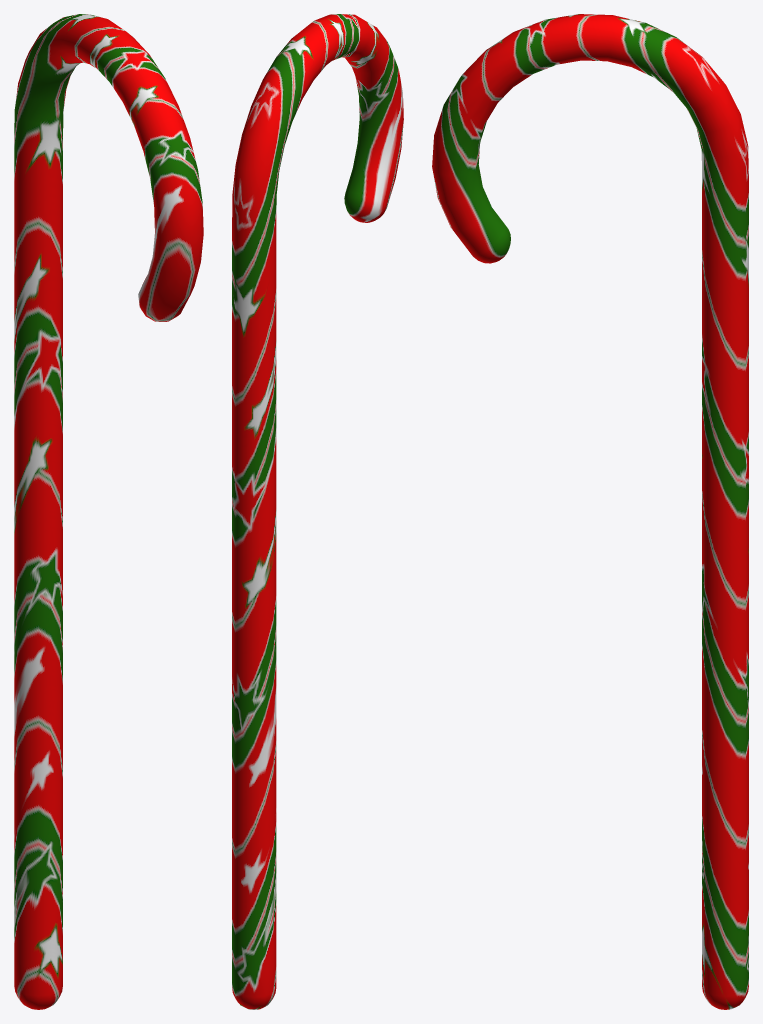
The model's file is Baston1.obj.
3 renders of one model, left to right at view 1: azimuth 30°, elevation 25°; view 2: azimuth 150°, elevation 25°; view 3: azimuth 270°, elevation 25°, orthographic. The views are drawn at different scales.
Visible parts, largest first — view 1: CandyCane; view 2: CandyCane; view 3: CandyCane.
Part boxes in pixels (x1,y1,x2,y2): CandyCane: [14, 14, 203, 1009]; CandyCane: [232, 14, 403, 1009]; CandyCane: [432, 14, 748, 1009].
Bounding box in the file's own units: 0.2063 × 4.82 × 1.4.
Materials: 1 (1 with a texture image).
